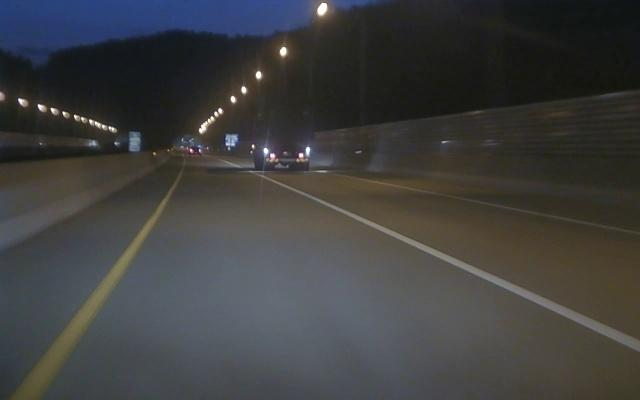lane: (290, 188, 639, 351), (8, 190, 169, 399), (361, 177, 640, 237)
